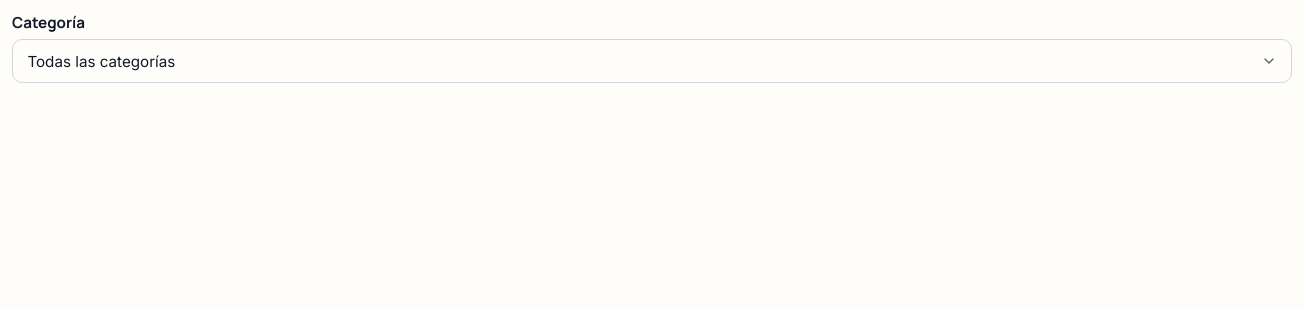
CategorySelect › agrupa General y EVENT; pagina sin truncar y envía nombre
Later steps or results of the test are not shown.
Click the dropdown labelled "categoría" at (101, 61), box [12,39,1292,83]
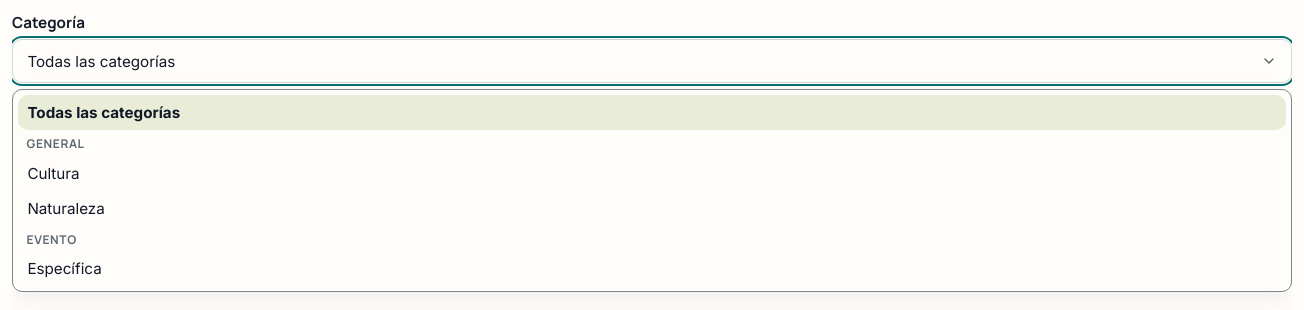
Expected: the option "Cultura" is shown, [27,164,80,183]
Expected: the element "Evento" is shown, [27,231,102,278]
